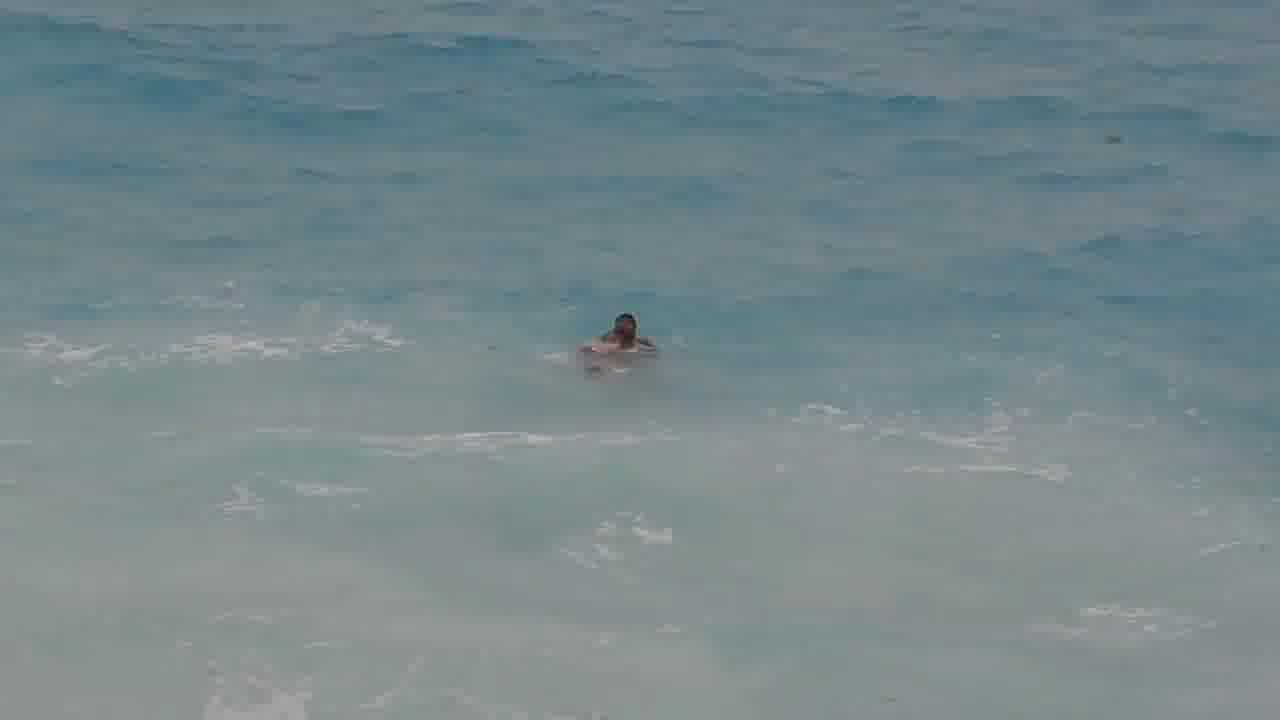swimmer: (594, 306, 653, 353)
